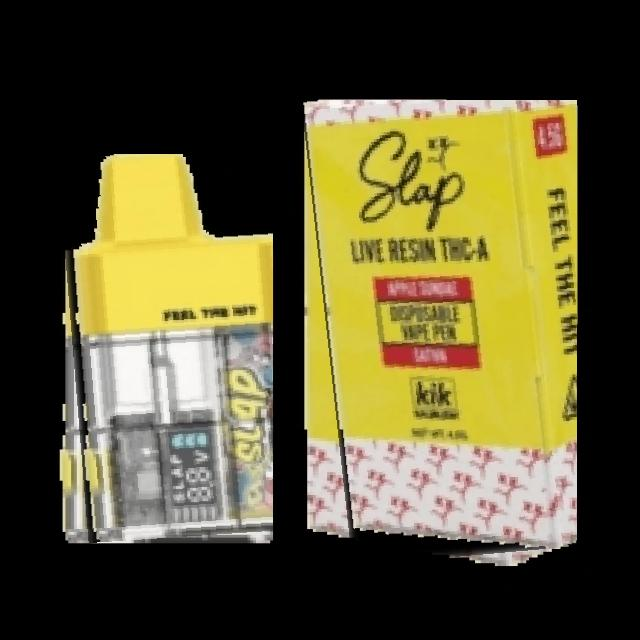Vapes: (302, 100, 578, 566), (57, 154, 273, 543)
